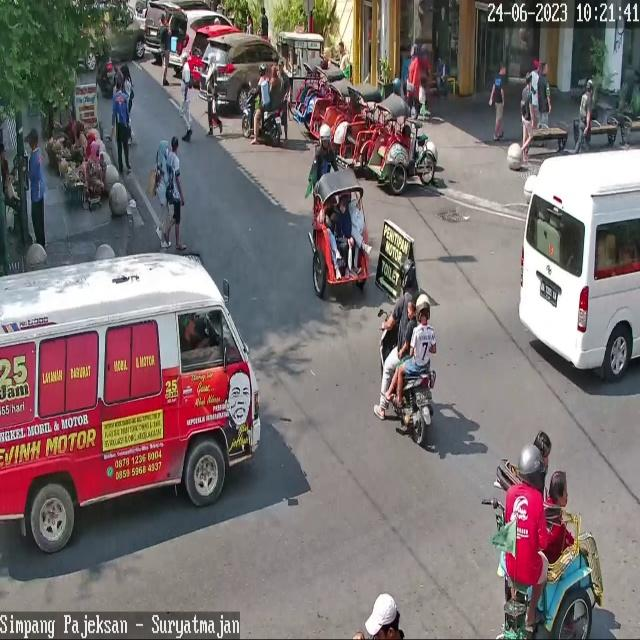bus: (378, 311, 434, 447), (240, 87, 281, 147), (97, 59, 119, 96)
car: (517, 148, 640, 382)
motorcycle: (0, 253, 261, 553), (201, 34, 281, 104), (85, 0, 144, 71), (164, 9, 233, 67), (144, 0, 212, 54), (186, 24, 242, 82)
